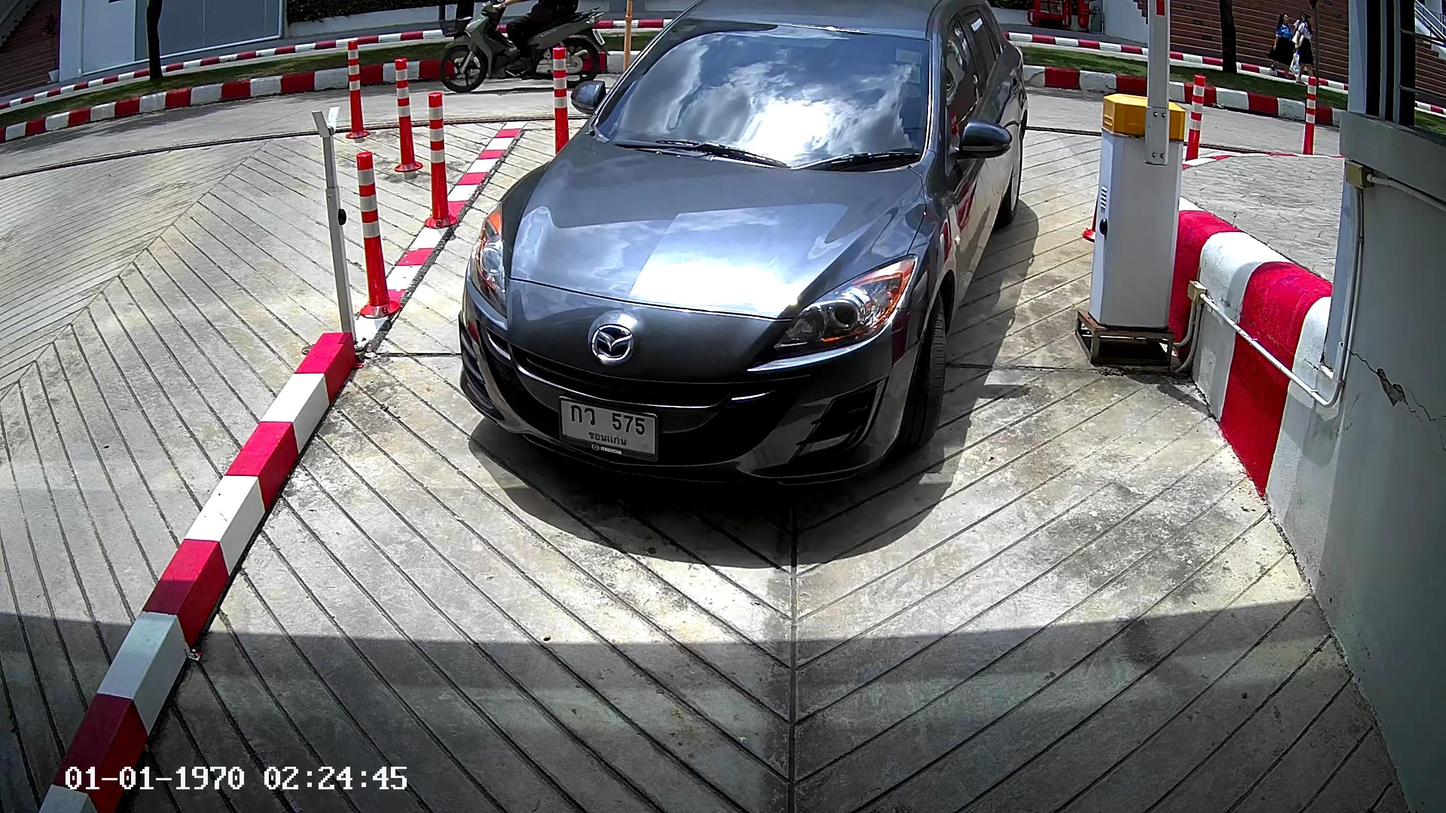car: (457, 8, 1033, 495)
license-plate: (556, 391, 660, 465)
